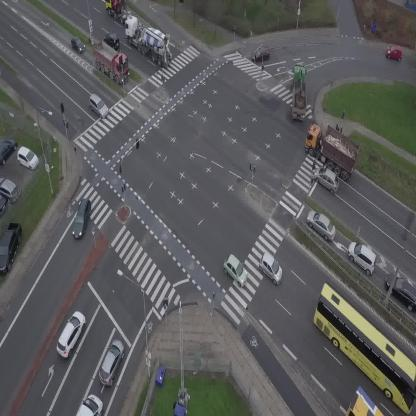car: (51, 308, 90, 359), (95, 337, 129, 388), (342, 237, 384, 276), (302, 205, 342, 243), (218, 252, 253, 288), (254, 251, 289, 286), (310, 163, 345, 195), (70, 197, 95, 240), (84, 92, 112, 120), (66, 34, 87, 56), (103, 32, 123, 50), (251, 46, 270, 61), (386, 46, 402, 61)
lorry: (295, 117, 368, 182), (114, 13, 181, 69), (84, 36, 138, 87), (292, 65, 307, 119), (76, 394, 102, 416)
